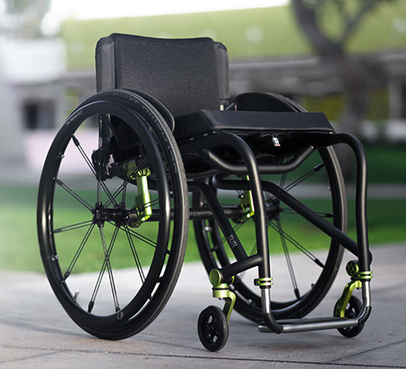wheelchair: (36, 34, 375, 346)
